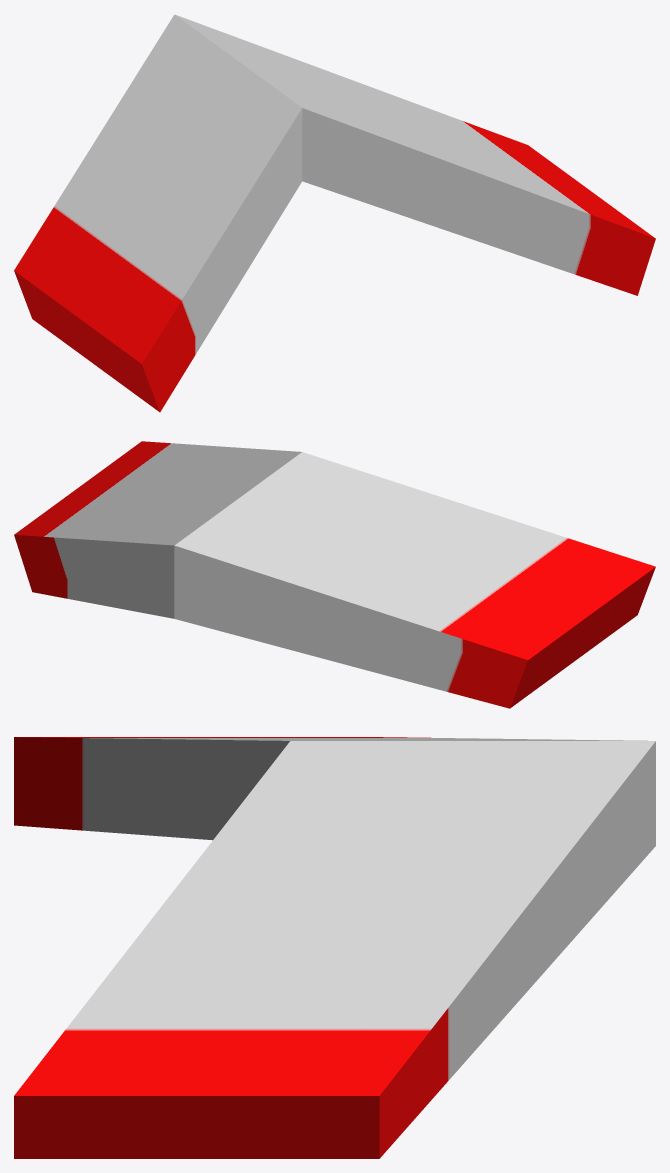
Rendered from jumpParts.FBX.
3 renders of one model, top to bottom at view 1: azimuth 30°, elevation 25°; view 2: azimuth 150°, elevation 25°; view 3: azimuth 270°, elevation 25°, orthographic. The views are drawn at different scales.
Visible parts, largest first — view 1: Box001; view 2: Box001; view 3: Box001.
Part boxes in pixels (box(x1,y1,x2,y2)): Box001: box(14, 14, 655, 412); Box001: box(14, 441, 655, 708); Box001: box(14, 737, 655, 1158).
Bounding box in the file's own units: 0.7328 × 0.2393 × 0.5541.
1 material, 1 textured.
